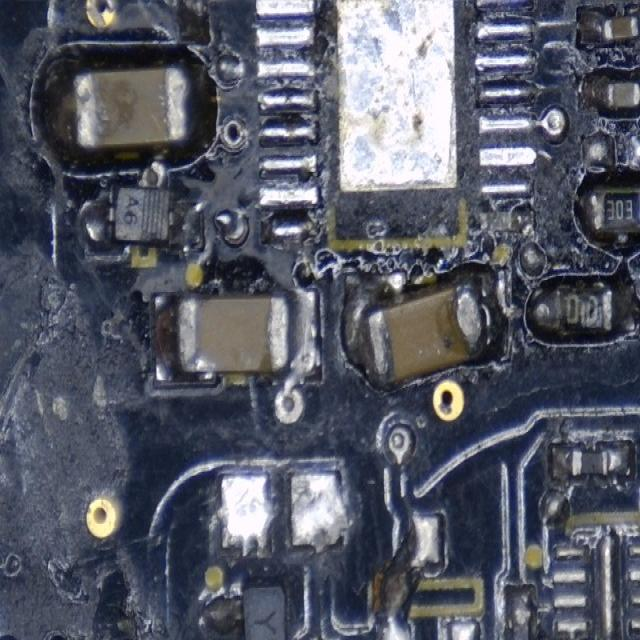Incorrect_installation: (341, 267, 506, 391)
Short_circuit: (376, 507, 449, 640), (268, 287, 321, 424)
